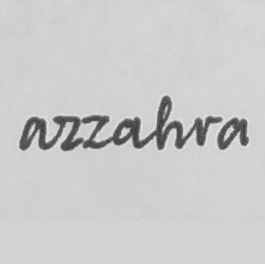a: (215, 114, 250, 151), (17, 113, 48, 154), (112, 114, 143, 150)
h: (153, 93, 185, 152)
r: (192, 112, 224, 148)
z: (51, 113, 81, 154), (82, 112, 111, 152)
